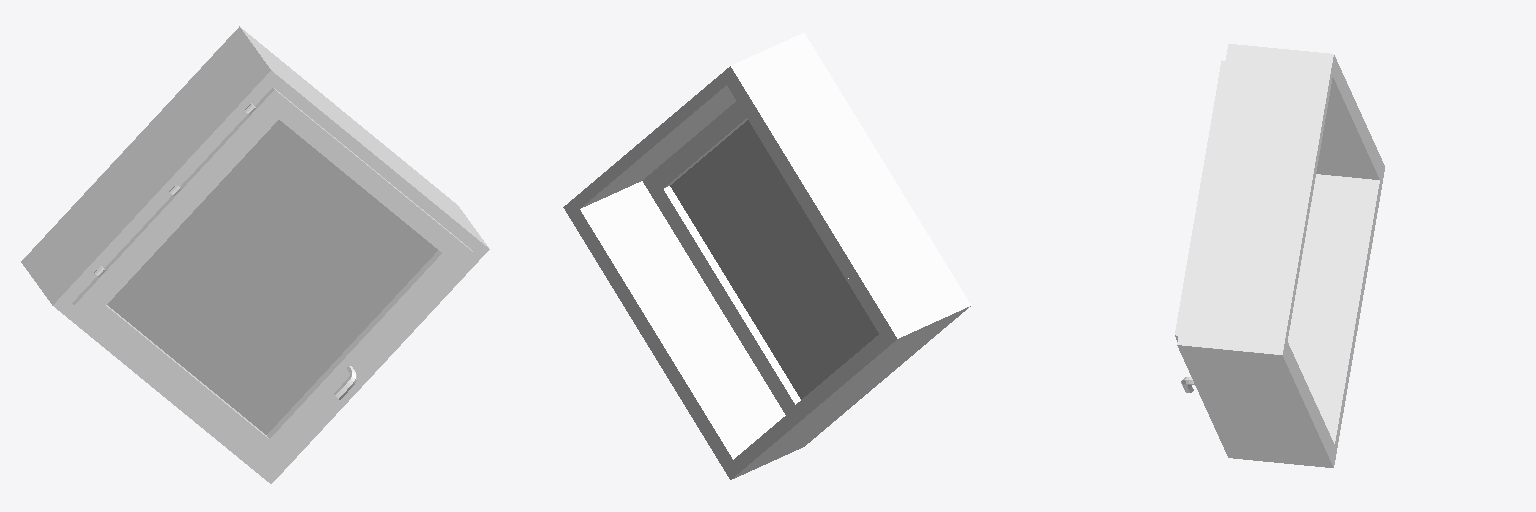
File: romblogs.obj
3 renders of one model, left to right at view 1: azimuth 30°, elevation 25°; view 2: azimuth 150°, elevation 25°; view 3: azimuth 270°, elevation 25°, orthographic.
Visible parts, largest first — view 1: sweethome3d_window_pane_on_hinge_1_8_8_8_8, frame_1_1_1_1, sweethome3d_opening_on_hinge_1_5_7_5_7; view 2: frame_1_1_1_1, sweethome3d_window_pane_on_hinge_1_8_8_8_8, sweethome3d_opening_on_hinge_1_5_7_5_7; view 3: frame_1_1_1_1, sweethome3d_opening_on_hinge_1_5_7_5_7.
Part boxes in pixels (bbox=[...]): sweethome3d_window_pane_on_hinge_1_8_8_8_8: bbox=[107, 120, 437, 434]; frame_1_1_1_1: bbox=[21, 26, 489, 483]; sweethome3d_opening_on_hinge_1_5_7_5_7: bbox=[72, 88, 473, 468]; frame_1_1_1_1: bbox=[563, 33, 971, 479]; sweethome3d_window_pane_on_hinge_1_8_8_8_8: bbox=[670, 120, 878, 399]; sweethome3d_opening_on_hinge_1_5_7_5_7: bbox=[642, 101, 879, 414]; frame_1_1_1_1: bbox=[1177, 44, 1384, 467]; sweethome3d_opening_on_hinge_1_5_7_5_7: bbox=[1175, 60, 1224, 341].
Size of the model in its own units: 87.2 by 84.85 by 39.12.